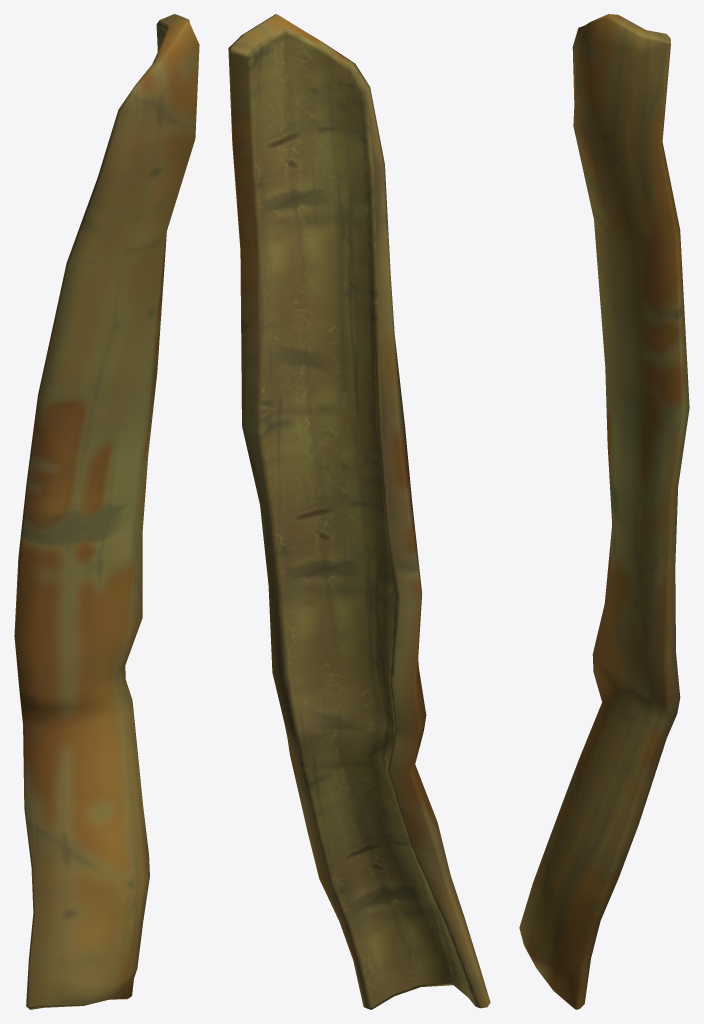
File: env_forest_gianttree_barkchunk03.fbx
3 views of the same model, side by side, from view 1: azimuth 30°, elevation 25°; view 2: azimuth 150°, elevation 25°; view 3: azimuth 270°, elevation 25° (orthographic). The views are drawn at different scales.
Visible parts, largest first — view 1: barkchunk03; view 2: barkchunk03; view 3: barkchunk03.
Part boxes in pixels (x1,y1,x2,y2): barkchunk03: [14, 14, 199, 1009]; barkchunk03: [228, 14, 490, 1009]; barkchunk03: [519, 14, 689, 1009].
Size of the model in its own units: 18.09 by 80.92 by 12.07.
